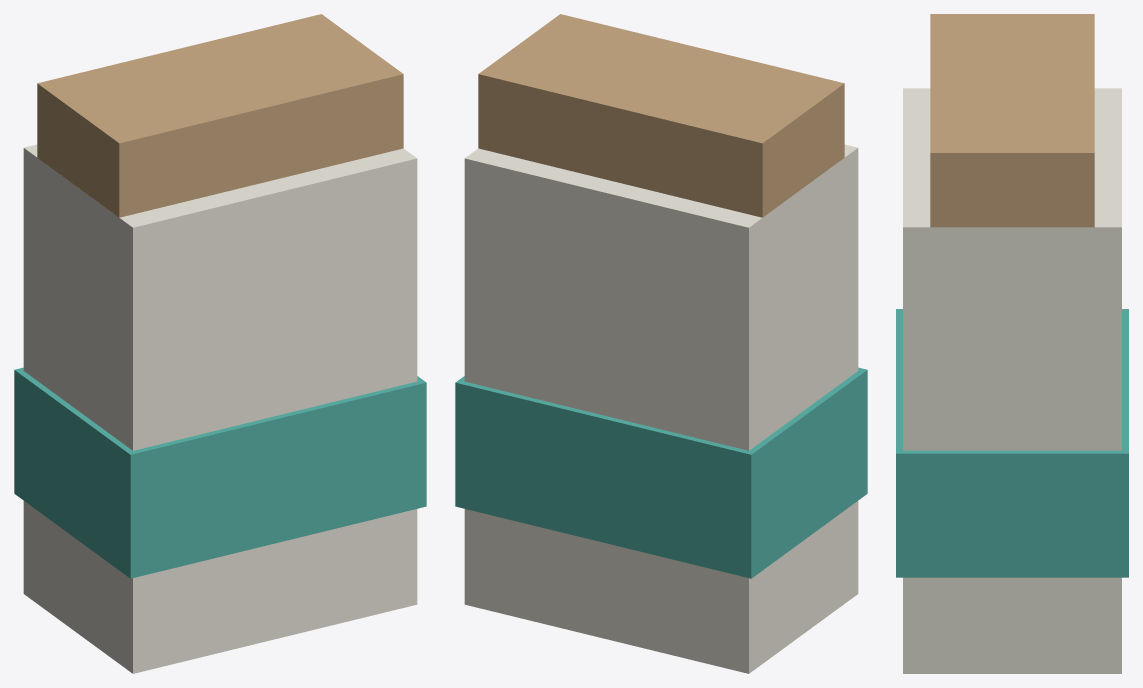
Rendered from supermarket-operations-flour-bag-e29e46d4__26860.glb.
3 views of the same model, side by side, from view 1: azimuth 30°, elevation 25°; view 2: azimuth 150°, elevation 25°; view 3: azimuth 270°, elevation 25° (orthographic).
Visible parts, largest first — view 1: flour-bag; view 2: flour-bag; view 3: flour-bag.
Boxes of the visible parts, bbox=[...] form: flour-bag: bbox=[14, 14, 426, 673]; flour-bag: bbox=[455, 14, 867, 673]; flour-bag: bbox=[896, 14, 1128, 673].
Size of the model in its own units: 0.125 by 0.21 by 0.085.
